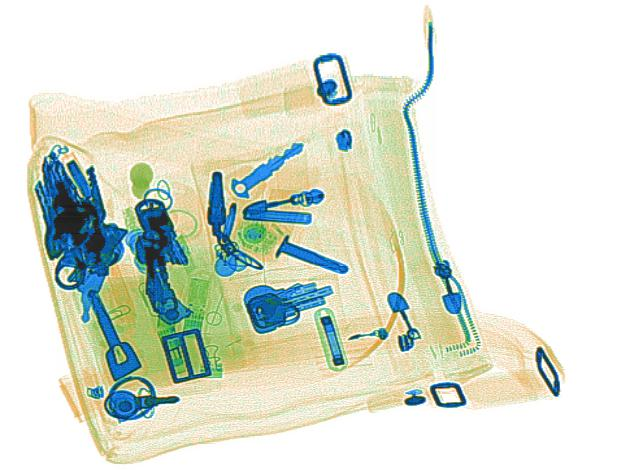USBFlashDisk: (180, 274, 209, 336)
